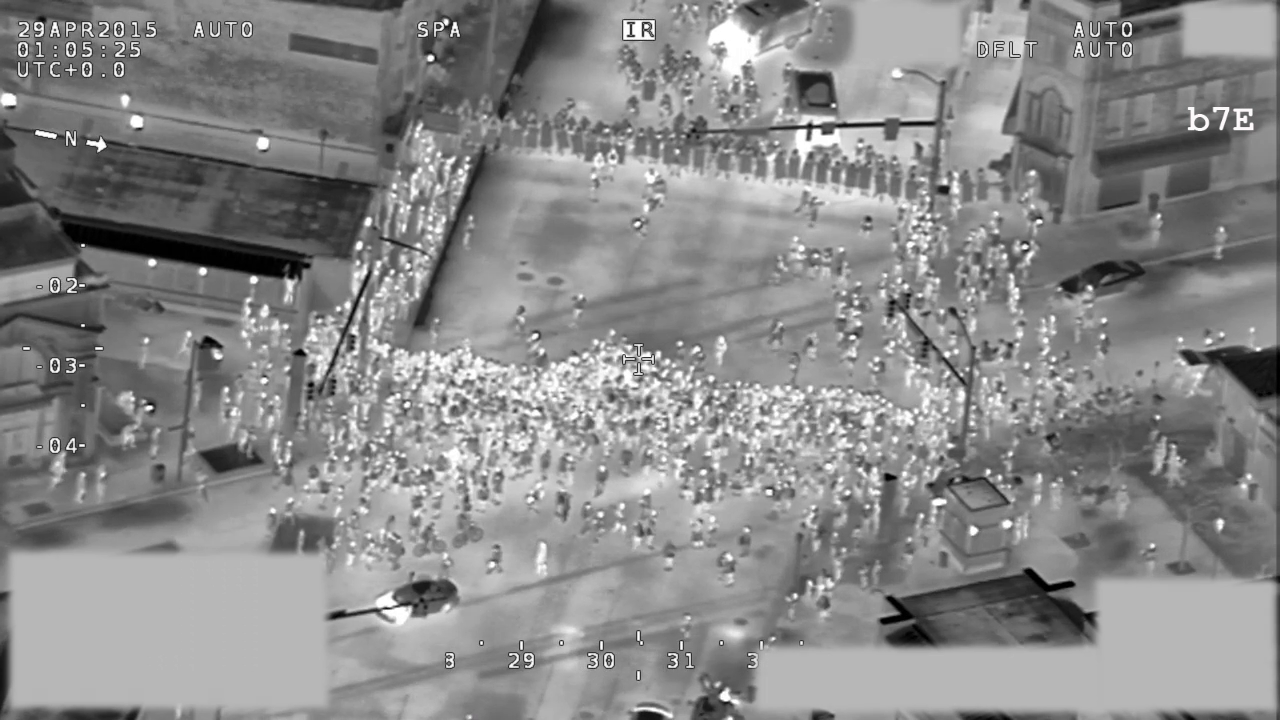vehicle: (700, 1, 820, 71), (788, 65, 846, 158), (1055, 256, 1151, 308), (371, 576, 463, 627)
